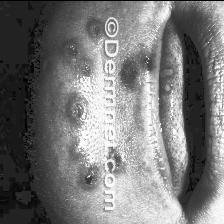Toxin: (122, 46, 160, 84), (61, 92, 84, 124)
